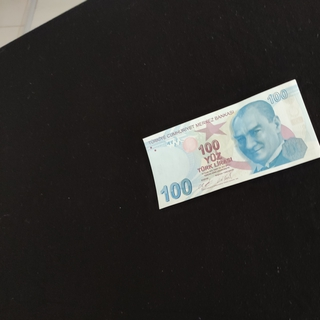100TLFront: (142, 79, 320, 209)
